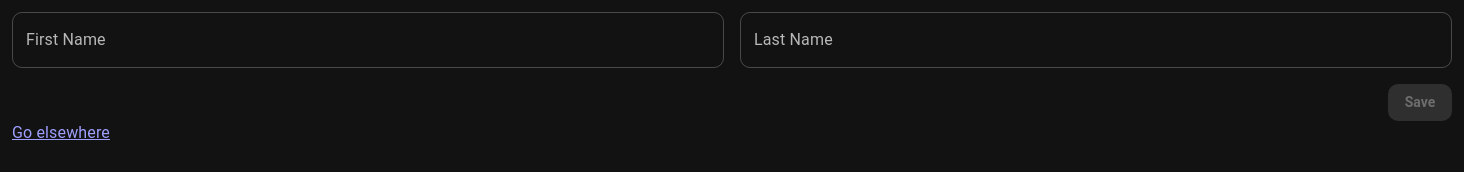
Test case: OasisForm › the Save button › is disabled until something changes
The width and height of the screenshot is (1464, 172).
Expected: the button "Save" is disabled, [1388,84,1452,120]
Type "A" into the field labelled "First Name" at (368, 40), box [12,12,724,68]
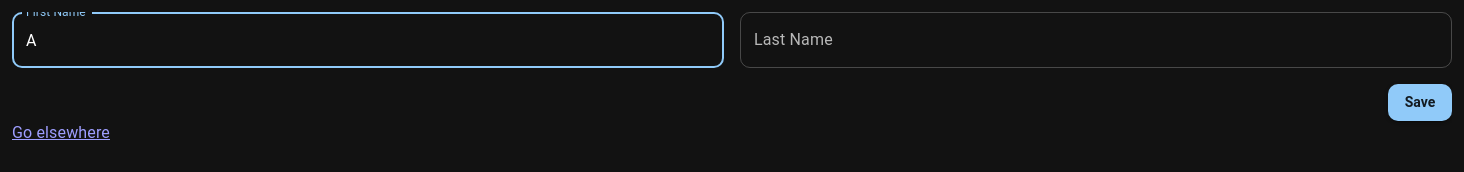
Result: the button "Save" is enabled at [1388,84,1452,120]
